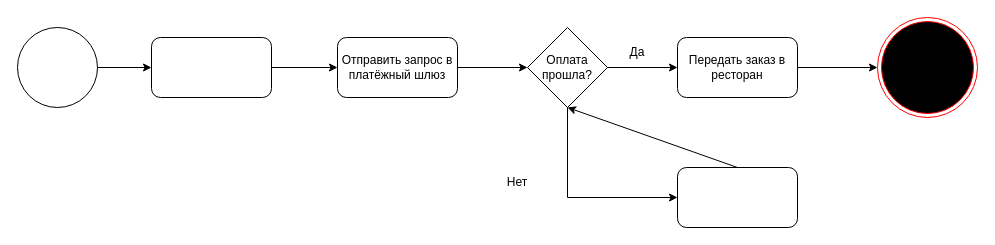
This 995x245 diagram has some shape labels left out. Each missing label, with the centre of its shape:
Выбрать способ оплаты: pixel 211 67
Повторить платеж или сменить способ оплаты: pixel 737 197
